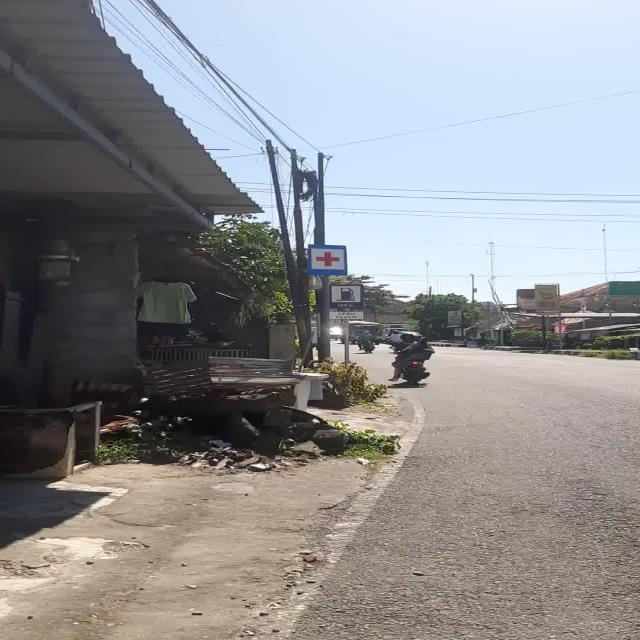Balai Pertolongan Pertama: (308, 244, 348, 275)
